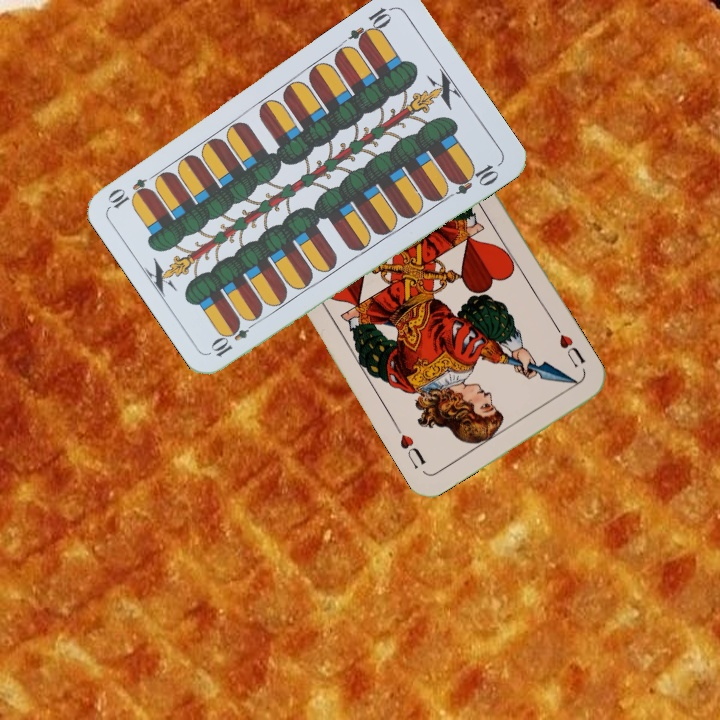E10: (345, 3, 396, 50), (207, 315, 260, 360)
HU: (555, 330, 588, 371)
